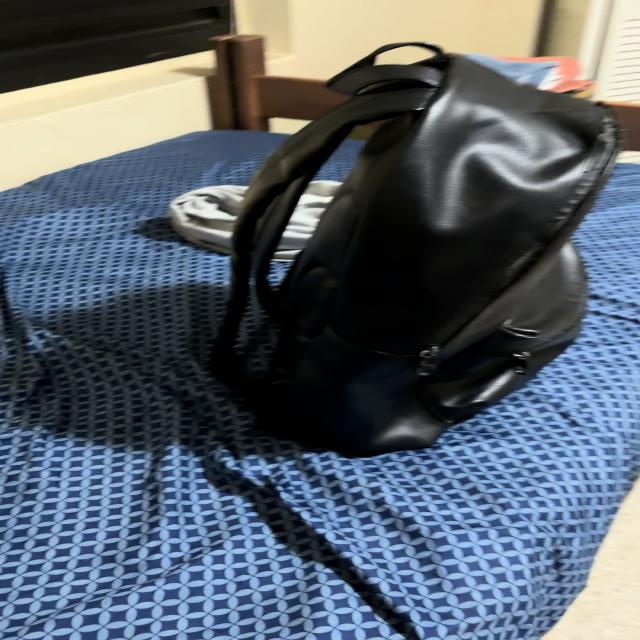backpack: (213, 43, 619, 451), (250, 397, 250, 399)
